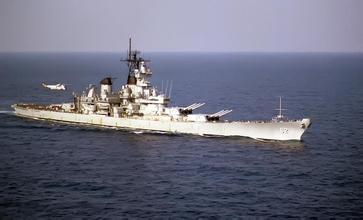airplane: (40, 76, 71, 91)
warship: (11, 47, 311, 146)
